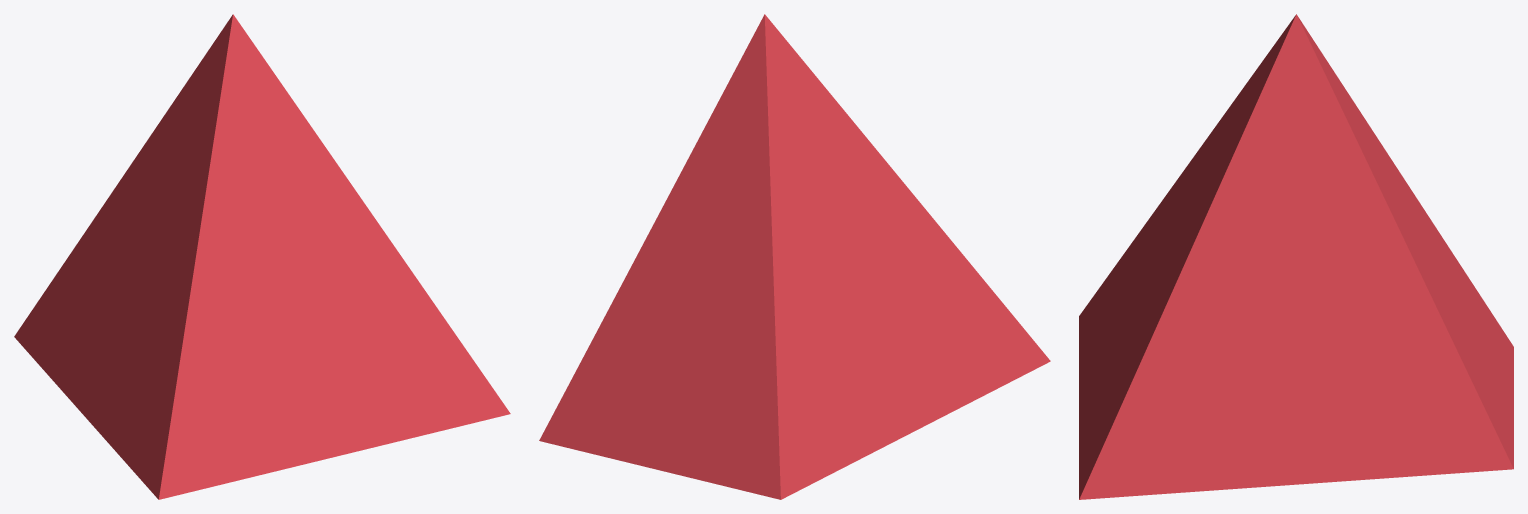
The model's file is Battery.glb.
The picture shows the model from 3 angles, left to right: view 1: azimuth 30°, elevation 25°; view 2: azimuth 150°, elevation 25°; view 3: azimuth 270°, elevation 25°; orthographic projection. The views are drawn at different scales.
Visible parts, largest first — view 1: Battery; view 2: Battery; view 3: Battery.
Part boxes in pixels (x1,y1,x2,y2): Battery: (14,14,510,499); Battery: (539,14,1050,499); Battery: (1079,14,1513,499).
Size of the model in its own units: 6 by 6 by 6.
